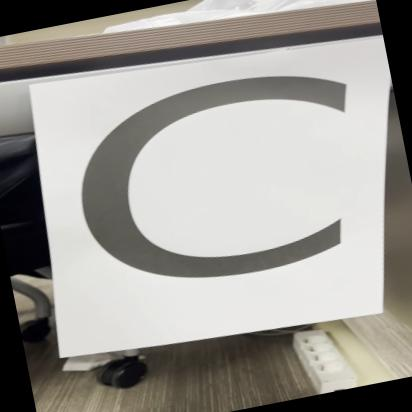seat: (46, 17, 412, 354)
